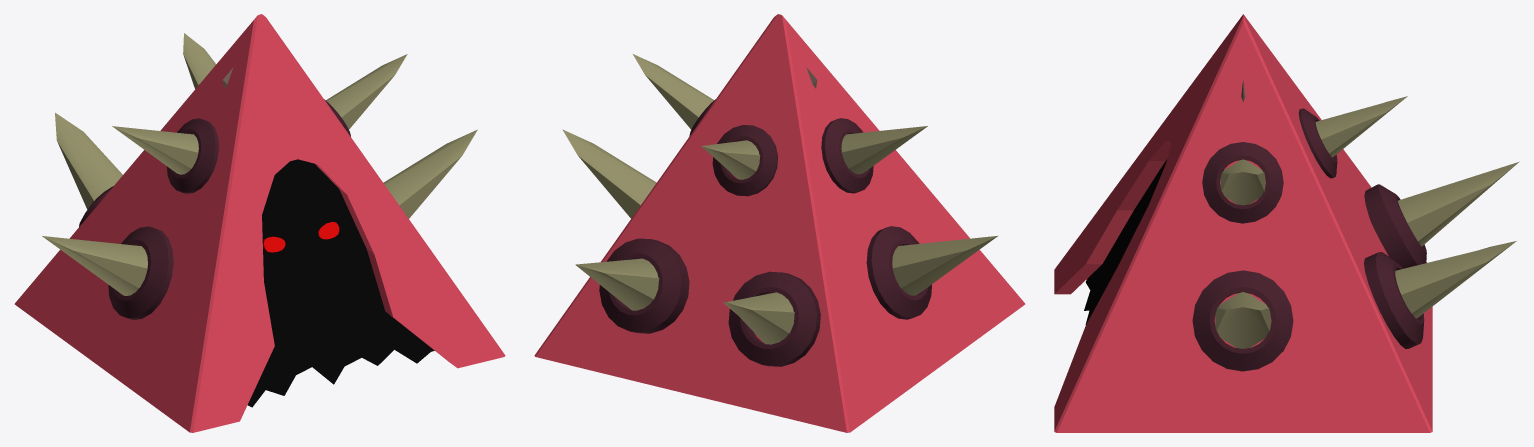
Rendered from Spke.fbx.
The picture shows the model from 3 angles, left to right: view 1: azimuth 30°, elevation 25°; view 2: azimuth 150°, elevation 25°; view 3: azimuth 270°, elevation 25°; orthographic projection. The views are drawn at different scales.
Parts seen in each view (by area): view 1: Head, Darkness, Spike_1, Spike_2, Spike_3 (×2), Spike_Disc_1, Spike_Disc_2; view 2: Head, Spike_3 (×3), Spike_1, Spike_Disc_4, Spike_Disc_3, Spike_2, Spike_Disc_1, Spike_Disc_5, Spike_Disc_2; view 3: Head, Spike_3 (×3), Spike_Disc_1, Spike_Disc_2, Spike_Disc_3, Spike_Disc_4, Spike_1, Darkness, Spike_2, Spike_Disc_5.
Boxes of the visible parts, box(x1,y1,x2,y2) form: Head: box(14, 14, 505, 432); Darkness: box(248, 159, 434, 407); Spike_1: box(42, 129, 477, 295); Spike_2: box(112, 54, 407, 174); Spike_3 (×2): box(55, 33, 216, 209); Spike_Disc_1: box(108, 226, 173, 319); Spike_Disc_2: box(166, 99, 350, 193); Head: box(534, 14, 1025, 432); Spike_3 (×3): box(575, 140, 794, 344); Spike_1: box(562, 129, 998, 295); Spike_Disc_4: box(728, 271, 820, 366); Spike_Disc_3: box(599, 238, 689, 333); Spike_2: box(633, 54, 927, 174); Spike_Disc_1: box(866, 226, 931, 319); Spike_Disc_5: box(712, 125, 777, 196); Spike_Disc_2: box(689, 99, 873, 193); Head: box(1054, 14, 1432, 432); Spike_3 (×3): box(1315, 96, 1519, 318); Spike_Disc_1: box(1192, 270, 1293, 371); Spike_Disc_2: box(1202, 142, 1283, 223); Spike_Disc_3: box(1364, 252, 1424, 349); Spike_Disc_4: box(1364, 184, 1426, 268); Spike_1: box(1215, 292, 1270, 348); Darkness: box(1084, 160, 1166, 324); Spike_2: box(1220, 159, 1265, 205); Spike_Disc_5: box(1298, 108, 1337, 178).
Bounding box in the file's own units: 6.6 × 5 × 5.73.
